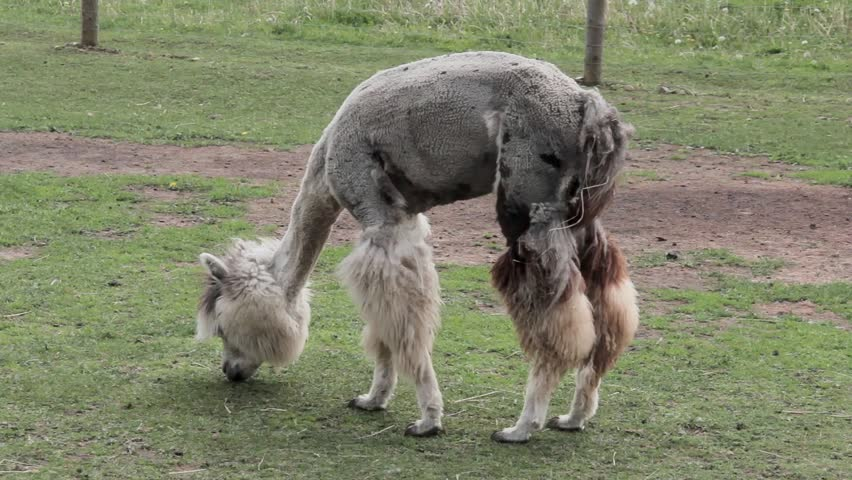alpaca: (194, 49, 641, 443)
